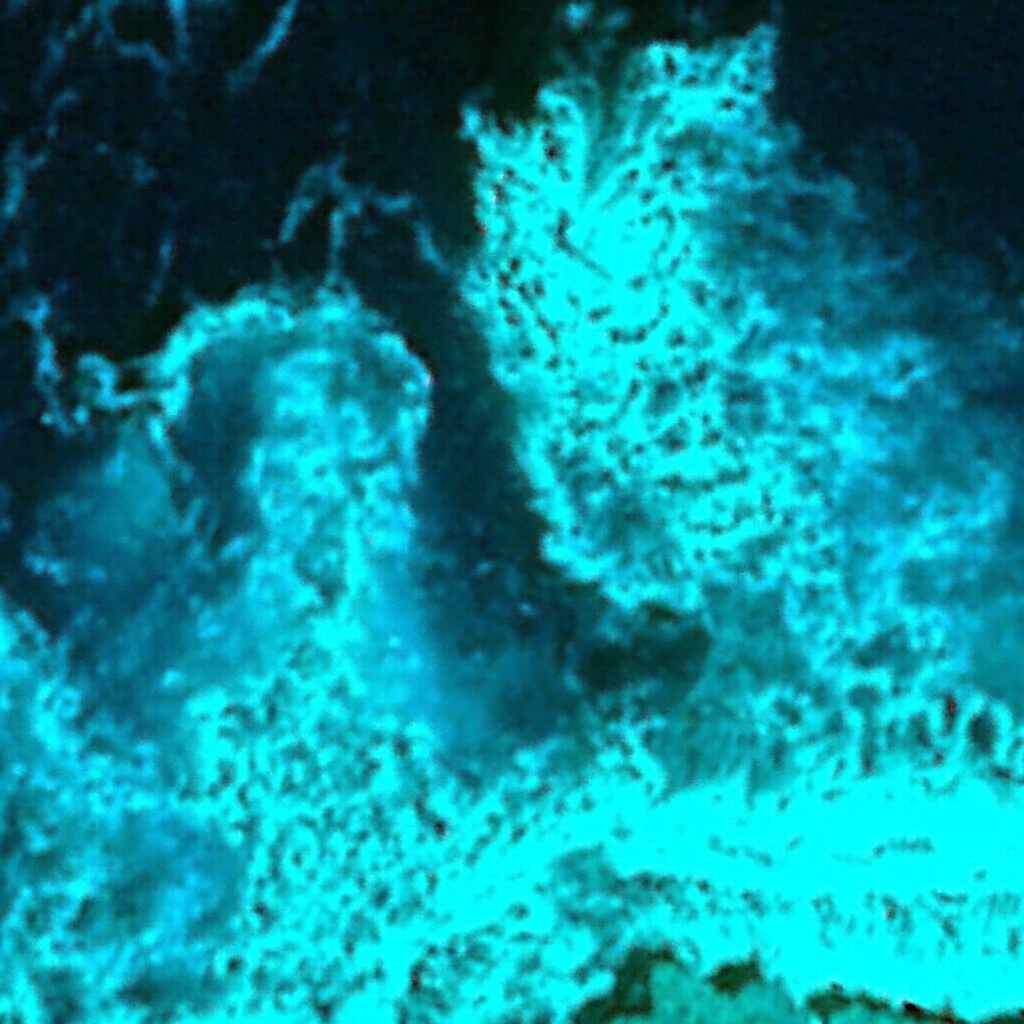rip_current: (324, 225, 668, 744)
